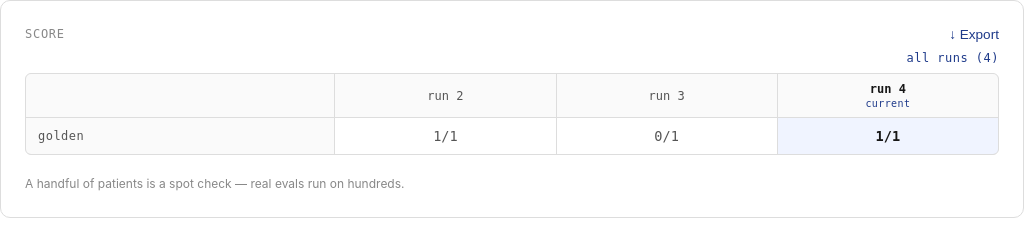
Test: ScoreLine (SHA-163 N11 / SHA-170 N15a) › "all runs" expander toggles between last 3 and every scored run
Expected: the number of buttons with test id "grid-col" is 3, [335,74,556,117]; [556,74,777,117]; [778,74,998,117]
Click the button with test id "grid-expander".
click(953, 58)  # box [906,51,999,65]
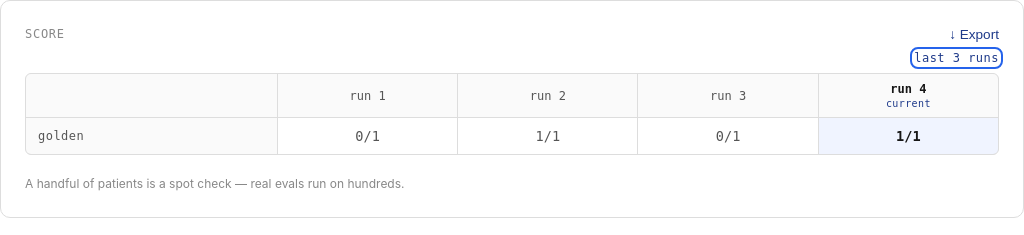
Expected: the button with test id "grid-expander" reads "last 3 runs"
Click the button with test id "grid-expander".
click(957, 58)  # box [914,51,999,65]
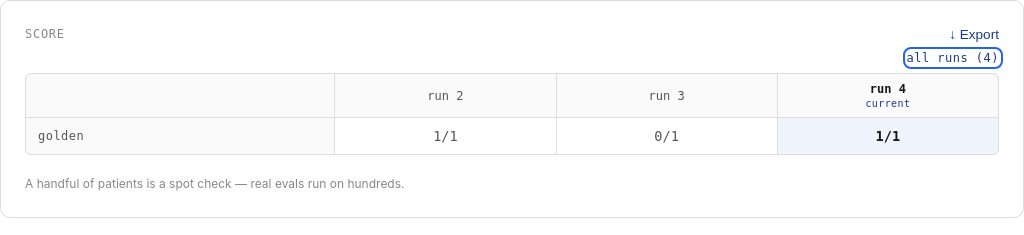
Expected: the number of buttons with test id "grid-col" is 3, [335,74,556,117]; [556,74,777,117]; [778,74,998,117]
